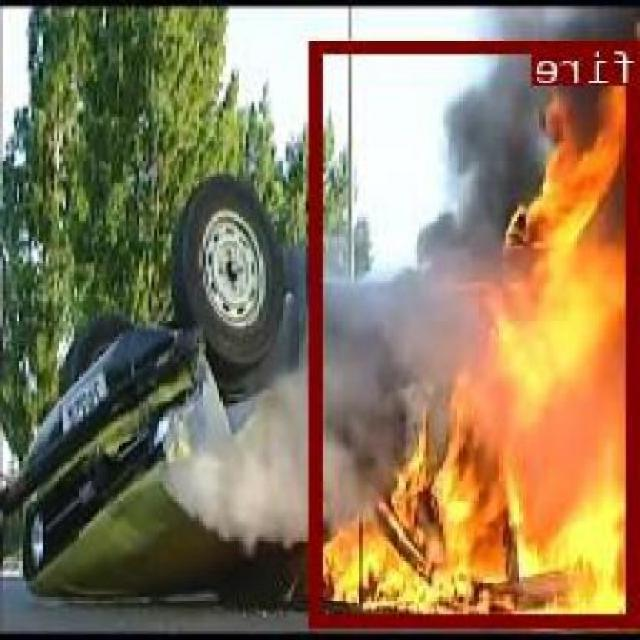Fire: (314, 38, 640, 624)
